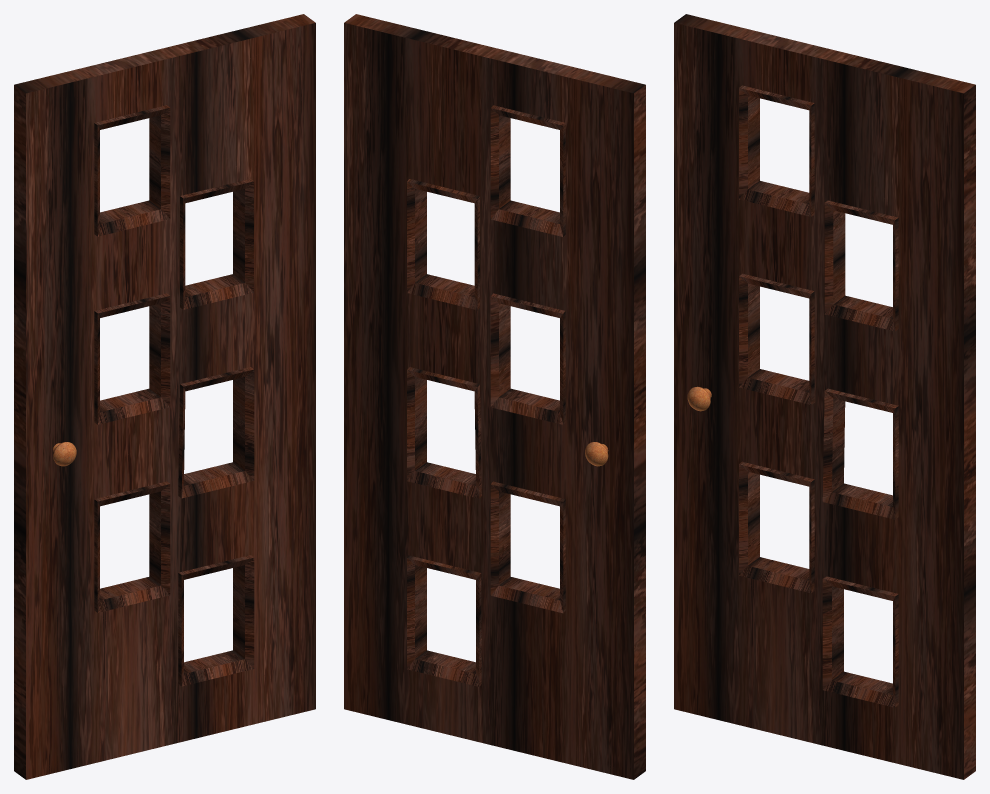
The model's file is Single_Door_001.fbx.
3 views of the same model, side by side, from view 1: azimuth 30°, elevation 25°; view 2: azimuth 150°, elevation 25°; view 3: azimuth 330°, elevation 25° (orthographic).
Parts seen in each view (by area): view 1: Circle.002; view 2: Circle.002; view 3: Circle.002.
Boxes of the visible parts, x1=… form: Circle.002: x1=14, y1=14, x2=315, y2=779; Circle.002: x1=344, y1=14, x2=645, y2=779; Circle.002: x1=674, y1=14, x2=975, y2=779.
Bounding box in the file's own units: 281 × 636 × 60.02.
Materials: 2 (2 with a texture image).
